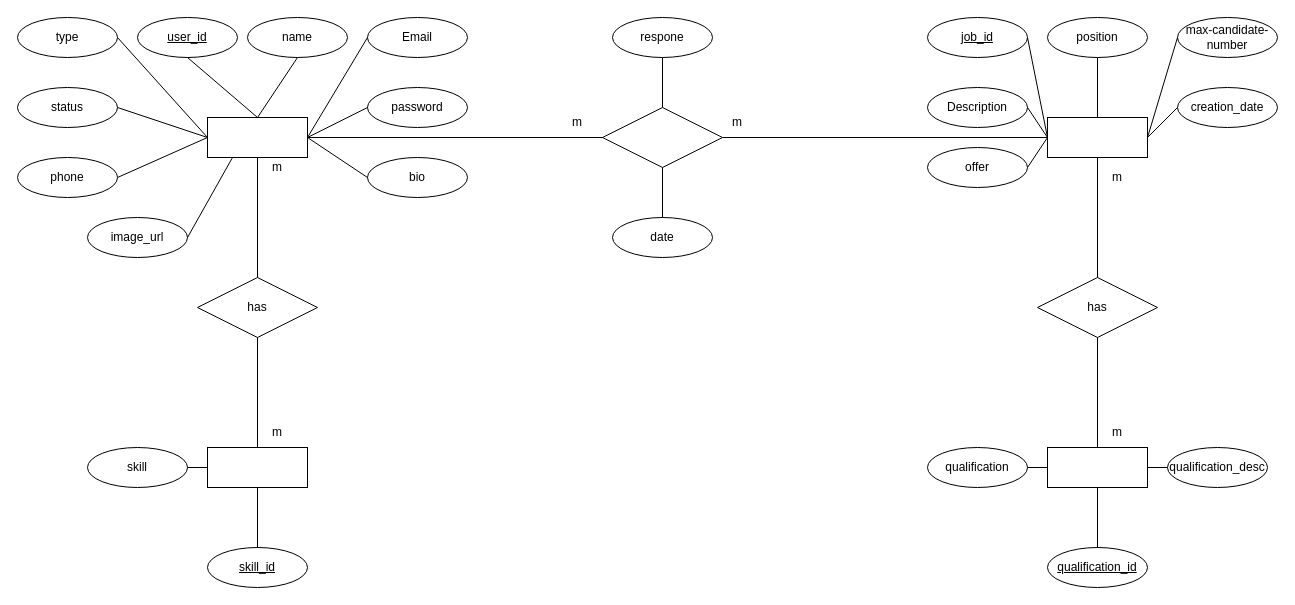
Image size: 1295x605. Some labels were removed from this diagram. Here are the shapes that lost their labels. From the top down, the centre of each, then its label:
At (257,137): "User".
At (662,137): "request".
At (1097,137): "Job".
At (257,467): "skills".
At (1097,467): "qualifications".
